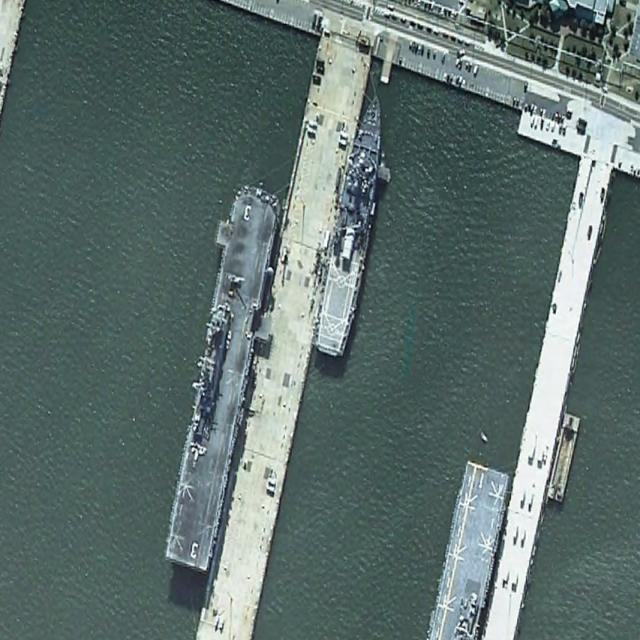Landing: (151, 177, 296, 582), (311, 86, 395, 361)
